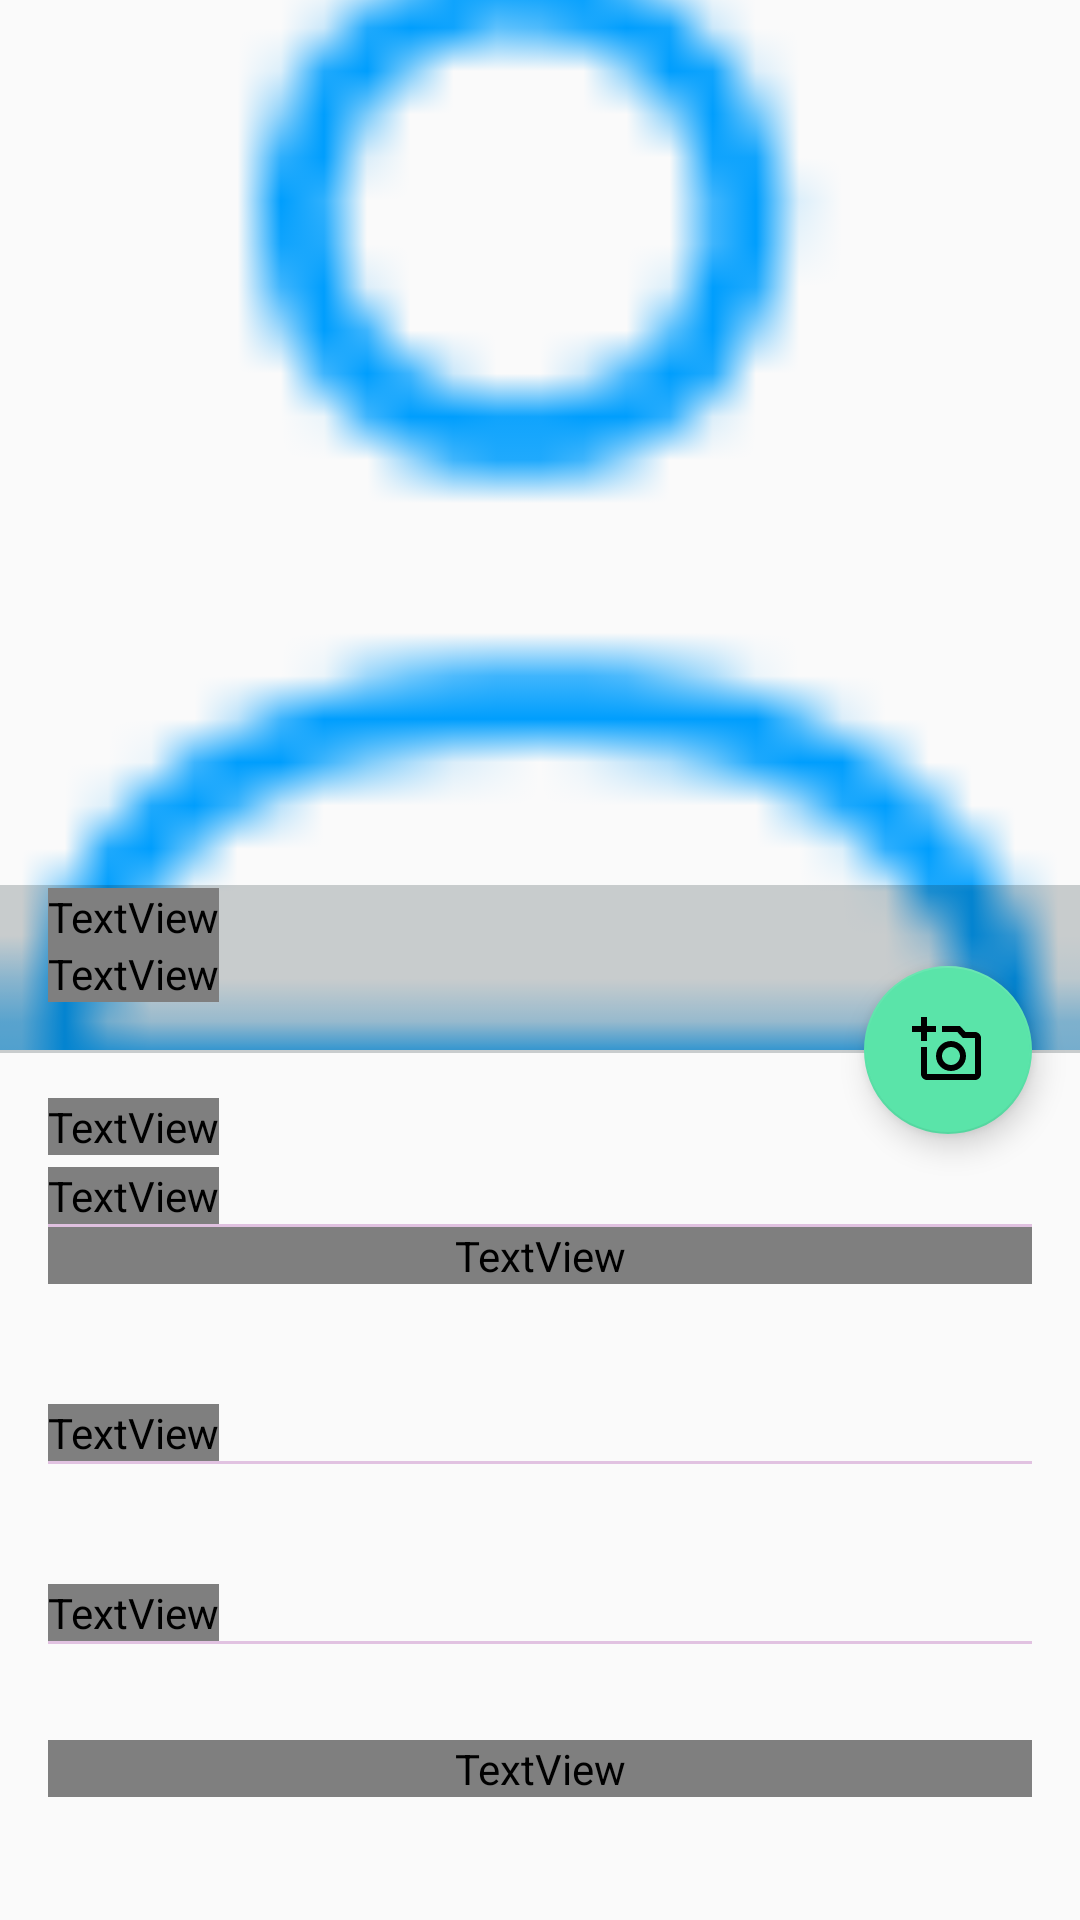

Where to tap for icons on this 1080px x 1920px app screen, as (x=x, y=y):
Adding profile photo: (x=948, y=1050)
